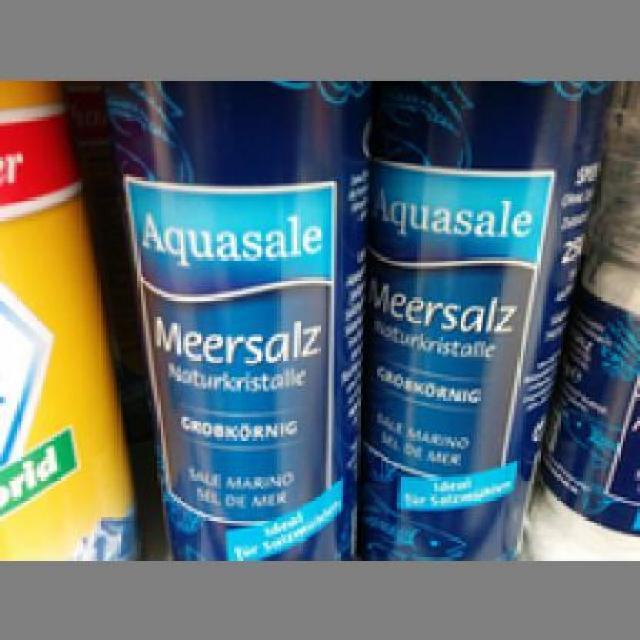Spices: (356, 80, 610, 557), (100, 77, 354, 554)
